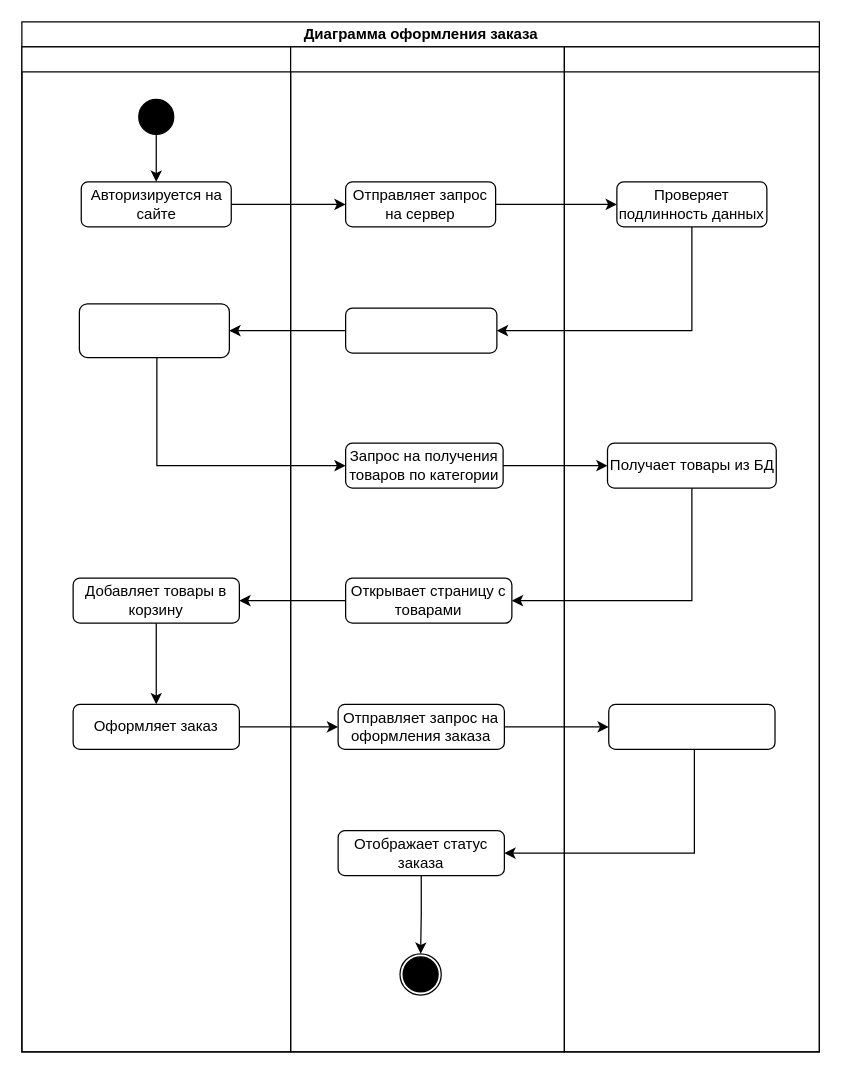
Image size: 841x1074. Some labels were removed from this diagram. The shapes that lost their labels are listed below. From the top down, each one's box as (x1, y1, x2, y2) in pixels, then its label:
(78, 302, 229, 358): Выбирает подходящую категорию
(344, 307, 497, 353): Открывается каталог товаров
(21, 46, 291, 1052): Пользователь
(289, 46, 564, 1052): Клиентская часть
(563, 46, 819, 1052): Серверная часть
(608, 703, 775, 749): Подтверждает оформления заказа
